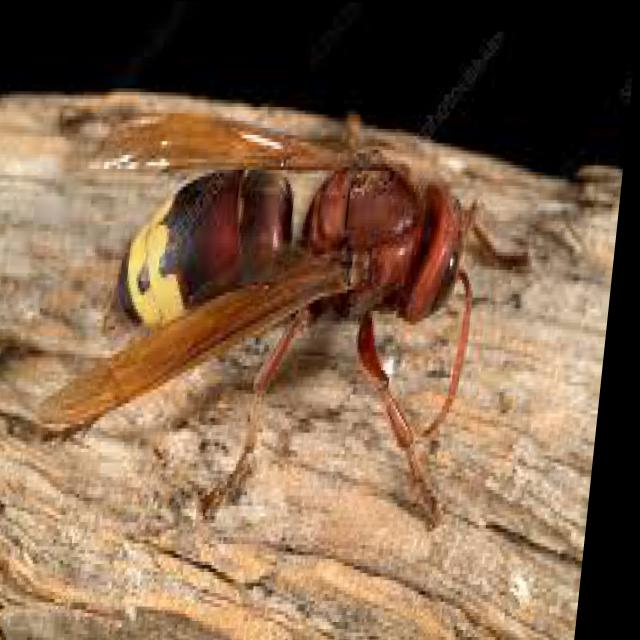Vespa Orientalis: (0, 53, 558, 582)
